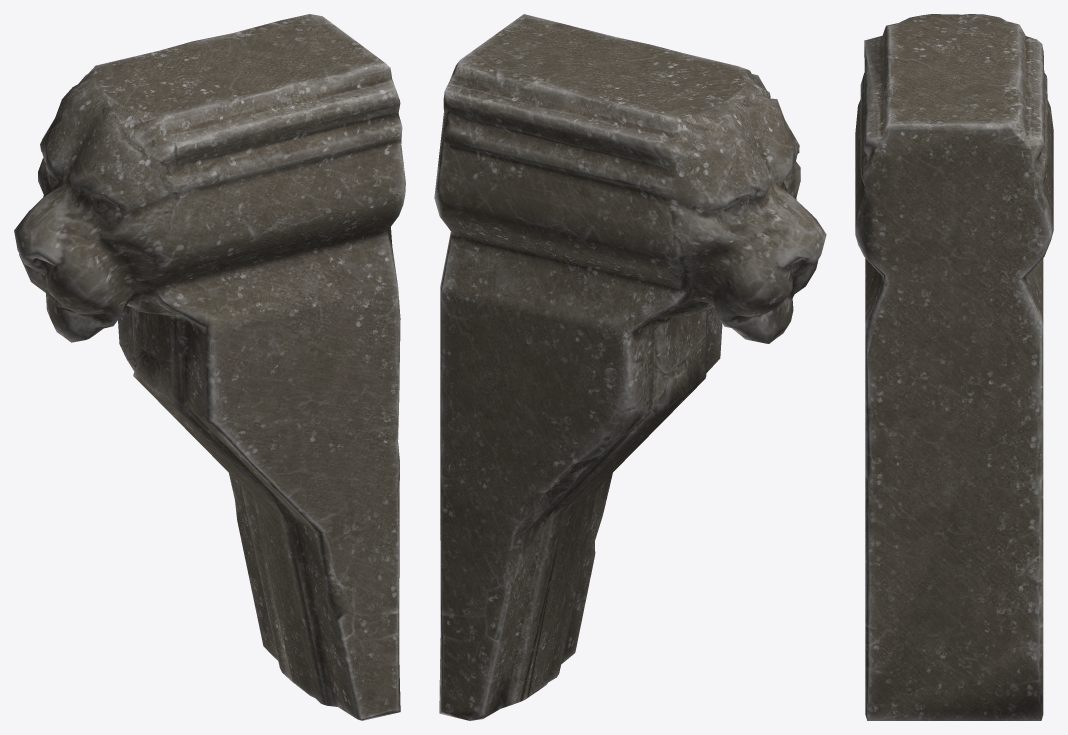
Rendered from SM_Statue_Wall_01a.fbx.
3 renders of one model, left to right at view 1: azimuth 30°, elevation 25°; view 2: azimuth 150°, elevation 25°; view 3: azimuth 270°, elevation 25°, orthographic. The views are drawn at different scales.
Parts seen in each view (by area): view 1: SM_Statue_Wall_01a_LOD0; view 2: SM_Statue_Wall_01a_LOD0; view 3: SM_Statue_Wall_01a_LOD0.
Boxes of the visible parts, bbox=[...] form: SM_Statue_Wall_01a_LOD0: bbox=[14, 14, 405, 720]; SM_Statue_Wall_01a_LOD0: bbox=[434, 14, 826, 720]; SM_Statue_Wall_01a_LOD0: bbox=[855, 14, 1053, 720].
Size of the model in its own units: 102 by 56.95 by 189.
1 material, 1 textured.
